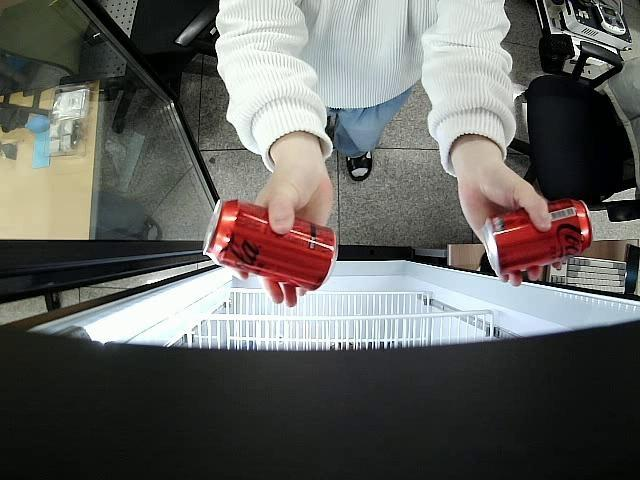11_cocaColaZero: (204, 198, 336, 291), (479, 198, 594, 272)
